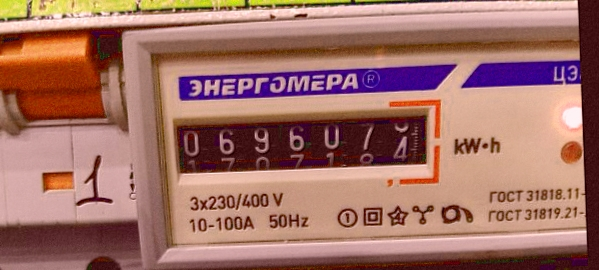0: (180, 127, 202, 158), (322, 121, 342, 151)
4: (389, 133, 409, 163)
6: (286, 122, 307, 154), (216, 126, 236, 156)
7: (357, 119, 376, 150)
9: (251, 125, 272, 154)
screen: (161, 92, 447, 195)
